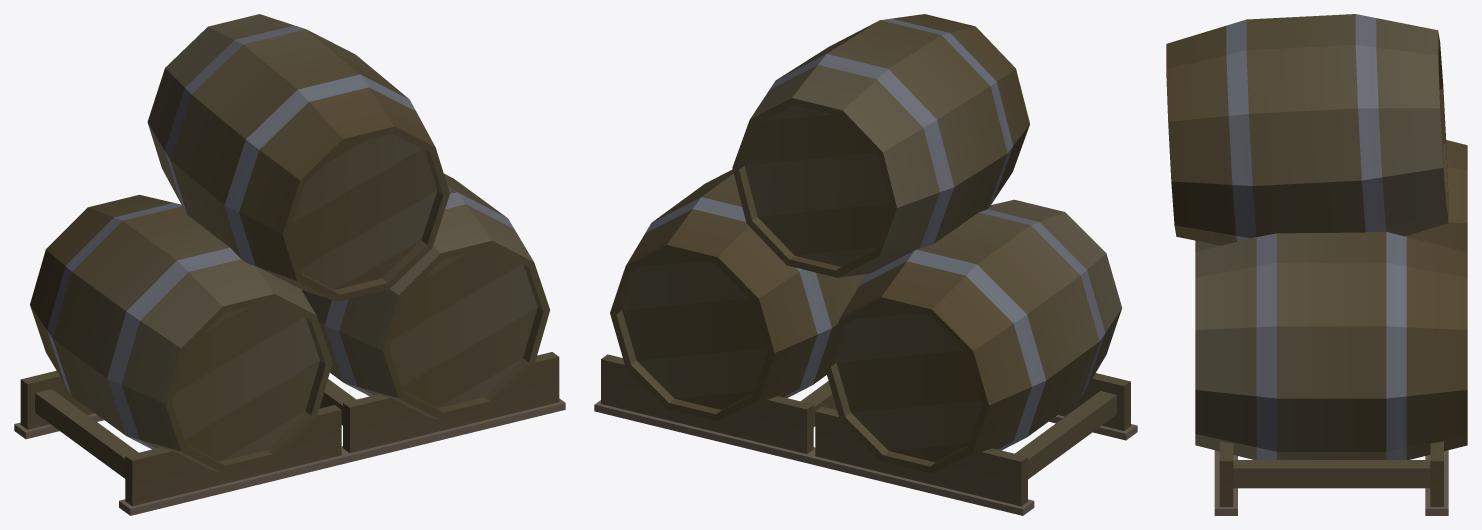
The model's file is Barrel_2B_LOD1.fbx.
3 views of the same model, side by side, from view 1: azimuth 30°, elevation 25°; view 2: azimuth 150°, elevation 25°; view 3: azimuth 270°, elevation 25° (orthographic). The views are drawn at different scales.
Parts seen in each view (by area): view 1: polySurface9640; view 2: polySurface9640; view 3: polySurface9640.
Boxes of the visible parts, x1,y1,x2,y2 form: polySurface9640: [14, 14, 565, 515]; polySurface9640: [594, 14, 1137, 515]; polySurface9640: [1166, 14, 1467, 515].
Bounding box in the file's own units: 312 × 257 × 186.
